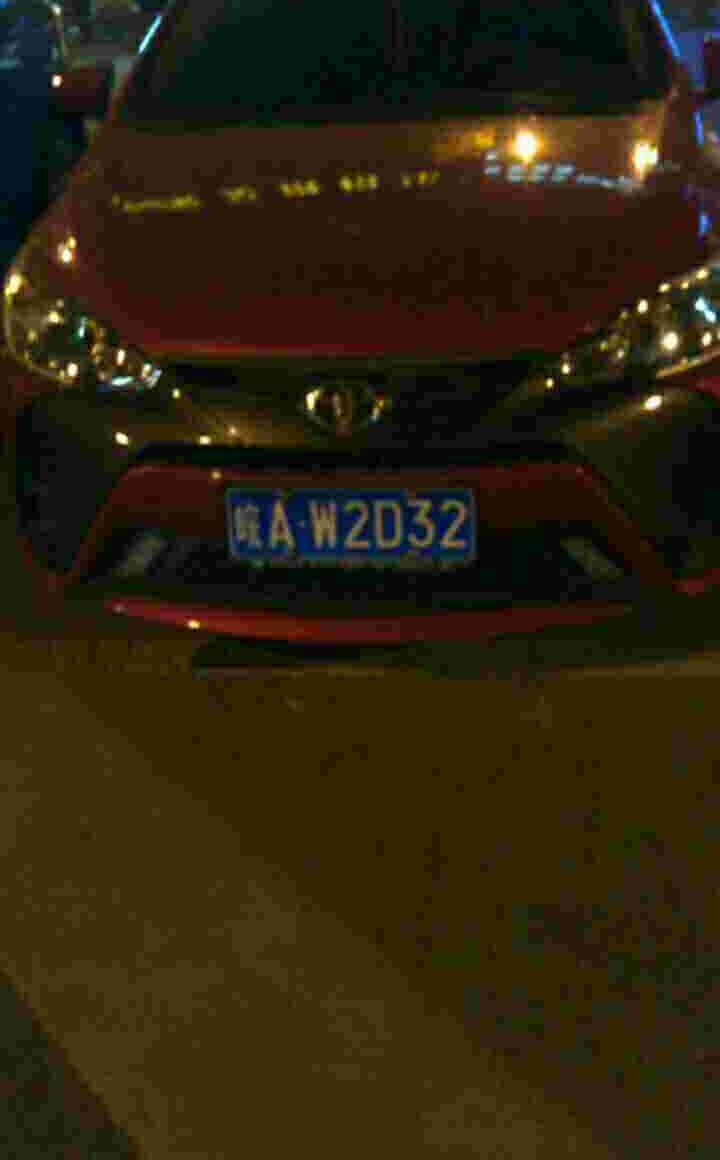plate: (228, 485, 480, 563)
